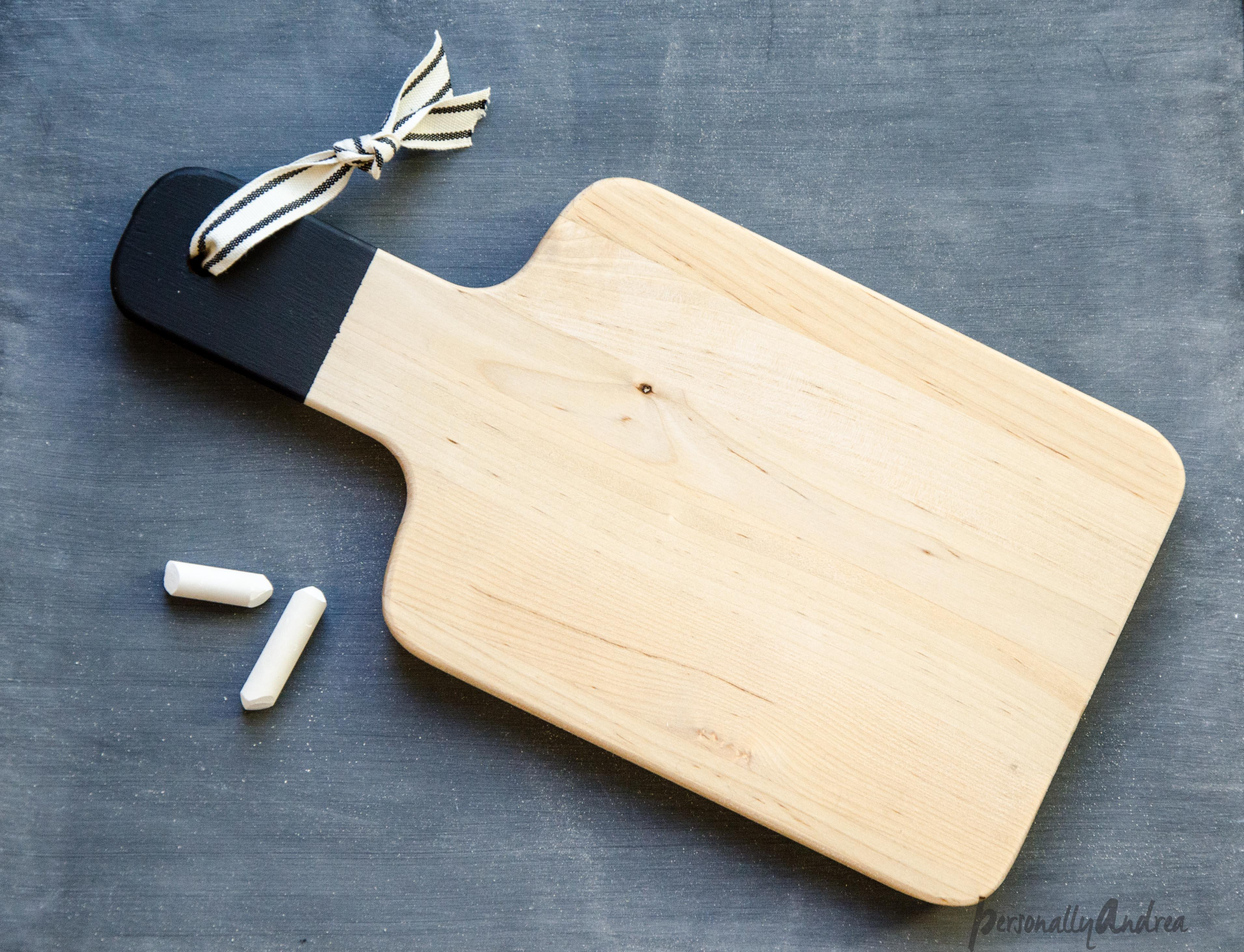gloved_hand: (95, 56, 1198, 941)
